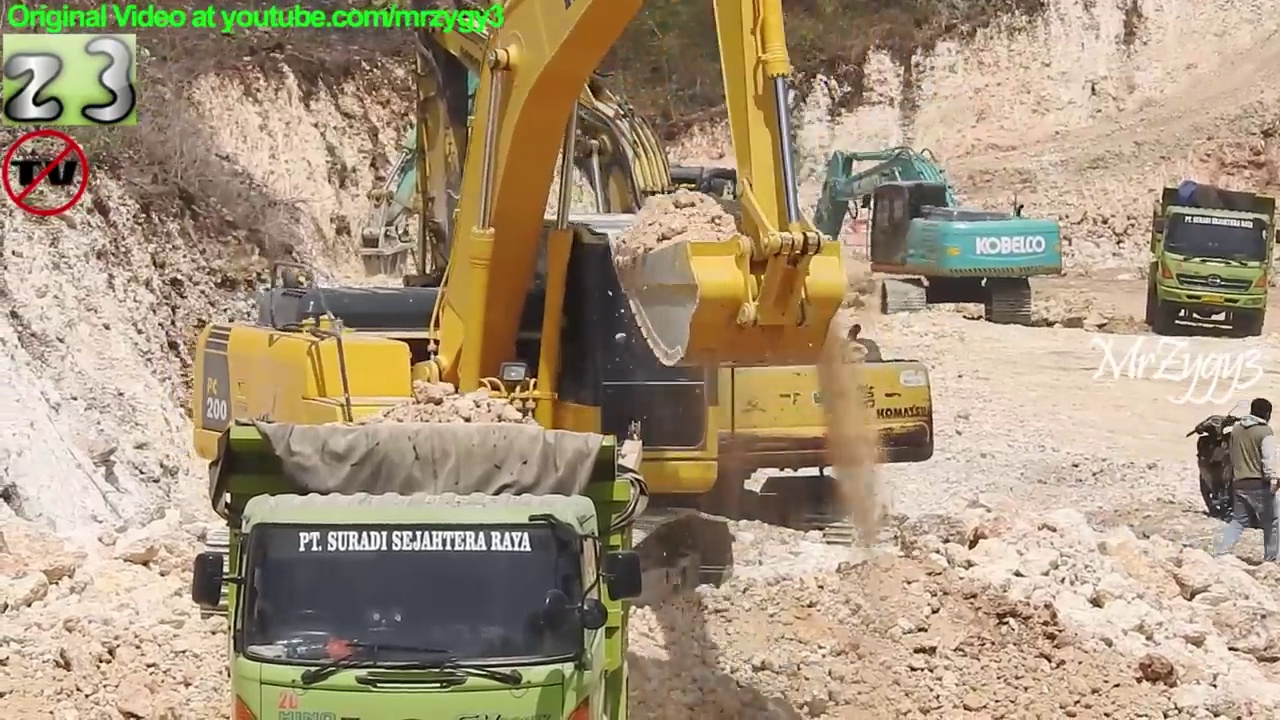excavator: (176, 1, 857, 640), (379, 1, 943, 565), (347, 45, 815, 323), (785, 143, 1072, 330)
truck: (185, 412, 654, 720), (1143, 179, 1280, 343)
